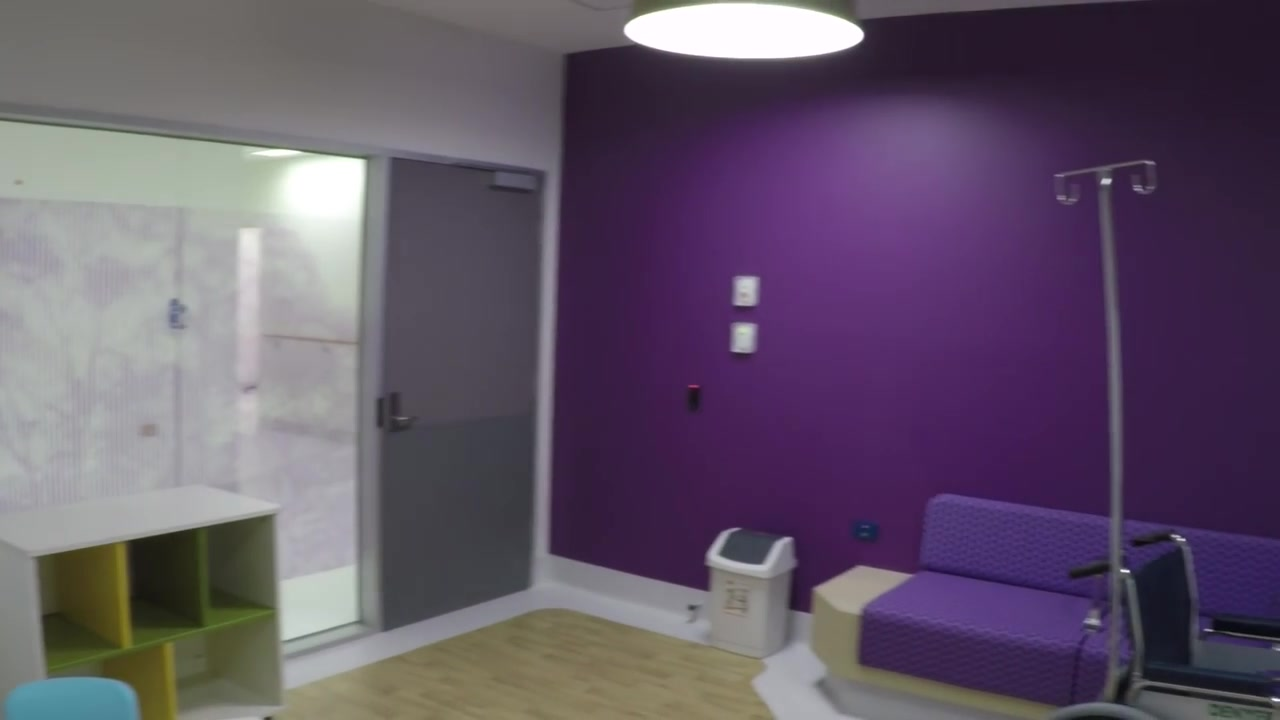chair: (1058, 526, 1266, 720)
door_handle: (380, 384, 417, 436)
iv_pole: (1051, 157, 1158, 664)
sofa: (810, 489, 1280, 720)
waste_bin: (699, 524, 796, 659)
